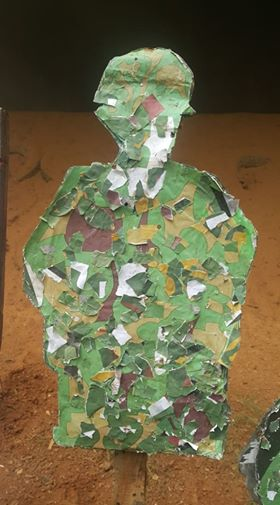Bullet: (170, 131, 176, 139), (158, 358, 165, 364), (123, 202, 128, 207), (157, 224, 161, 229), (134, 57, 137, 61)
